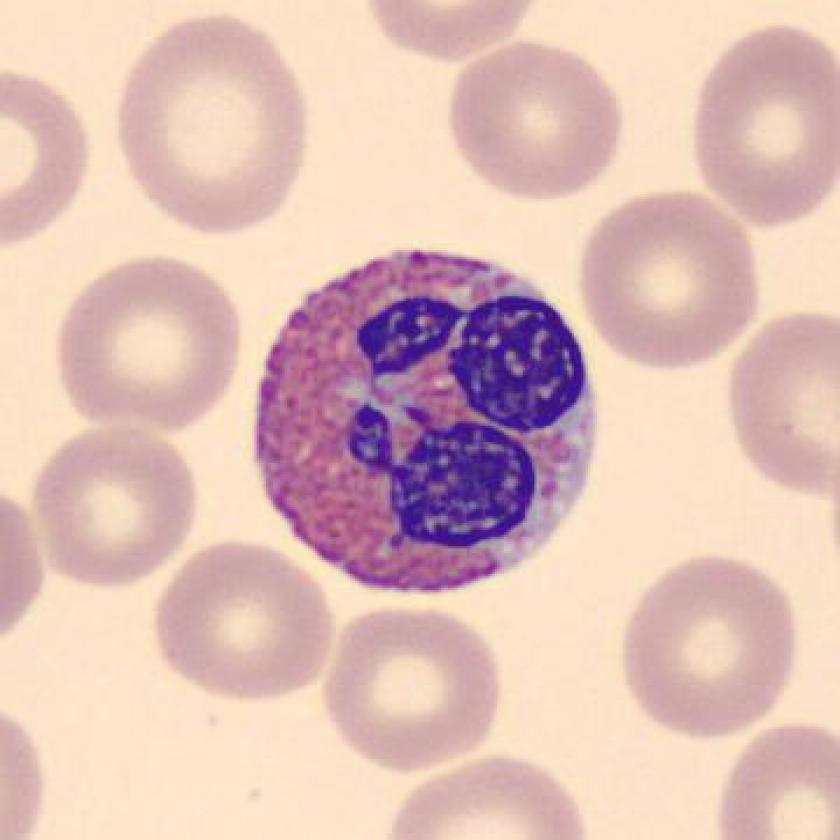eosinophil: (244, 233, 612, 608)
